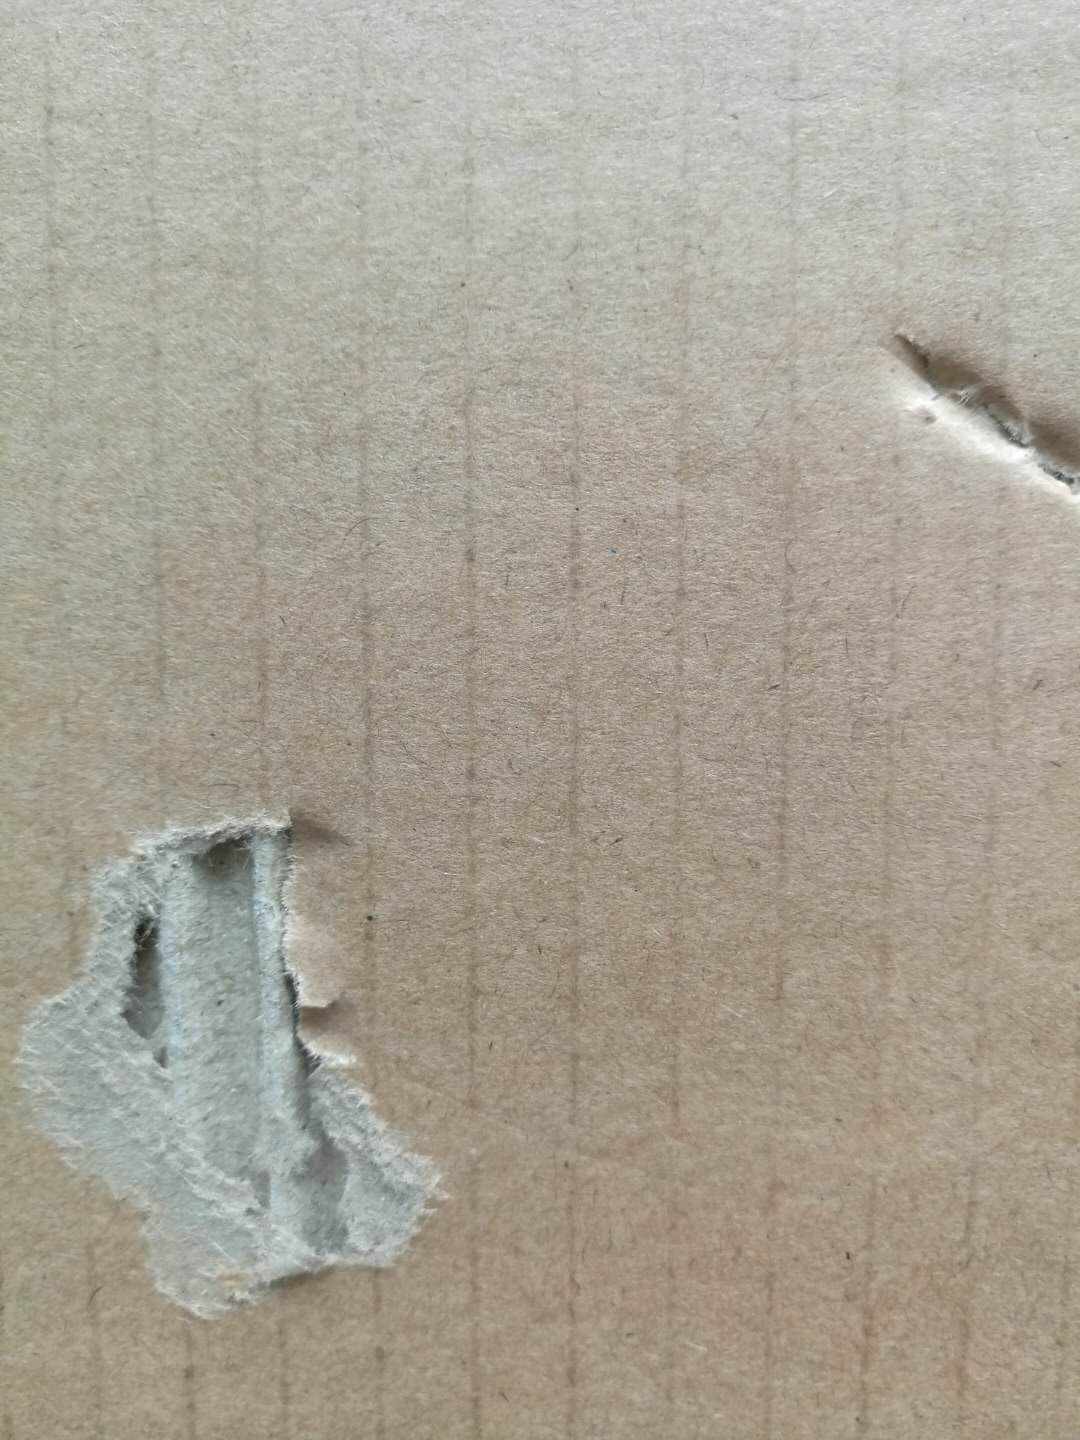defect: (9, 770, 488, 1355), (852, 278, 1080, 524)
